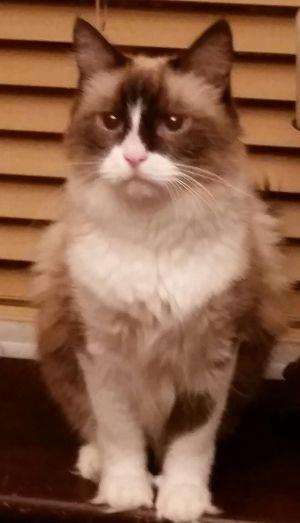ragdoll: (49, 2, 262, 231)
